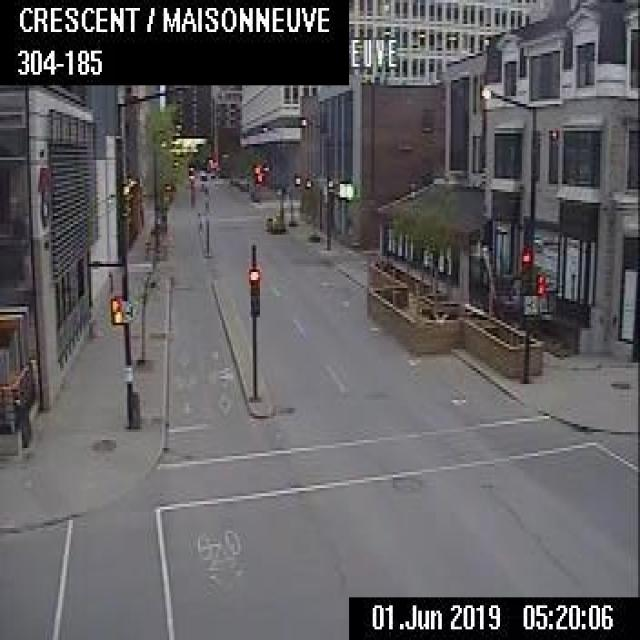vehicle: (264, 210, 284, 230)
